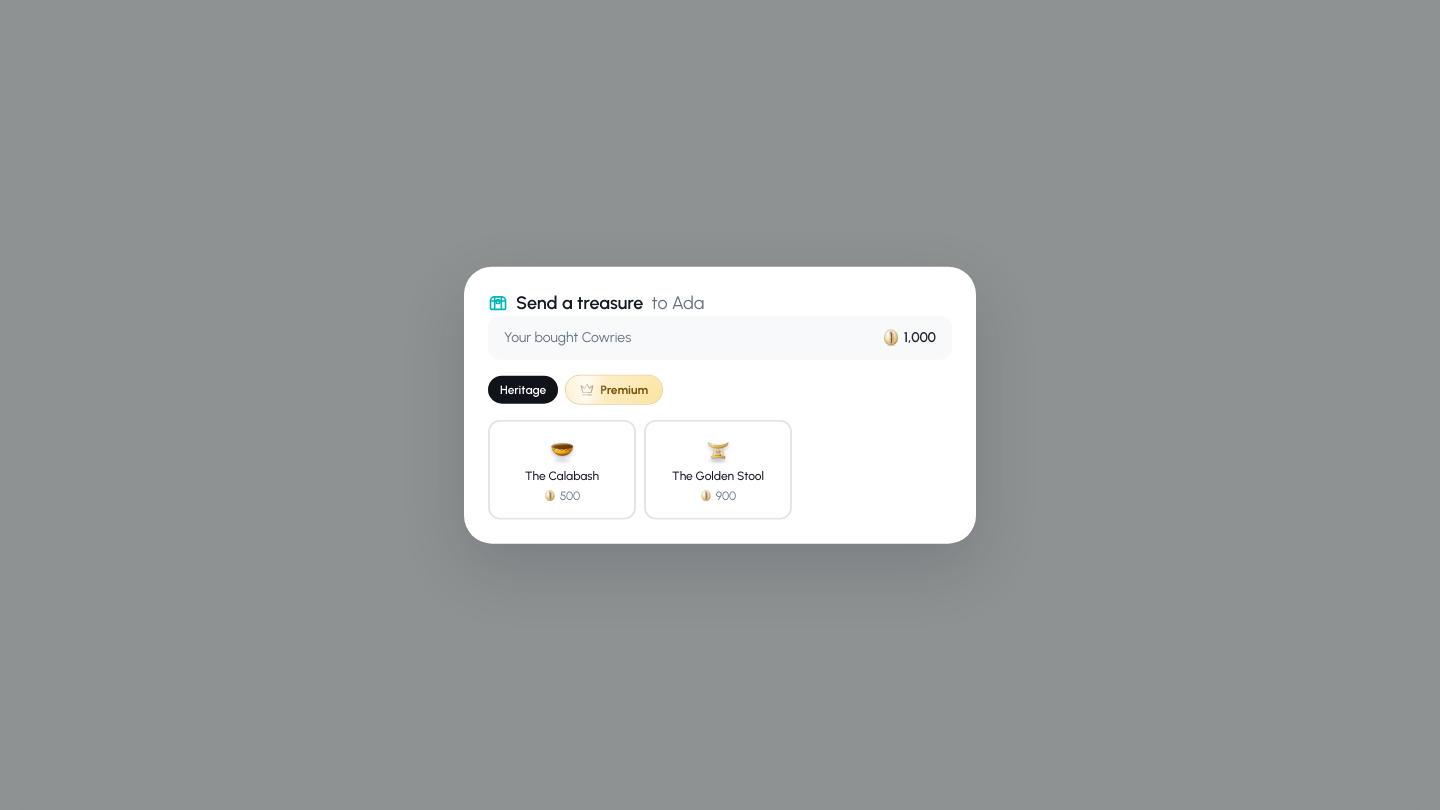
Test: previewing a treasure before sending it › follows the choice to another treasure
The width and height of the screenshot is (1440, 810).
Click the button "The Calabash 500" at (562, 469), box [488,419,636,519]
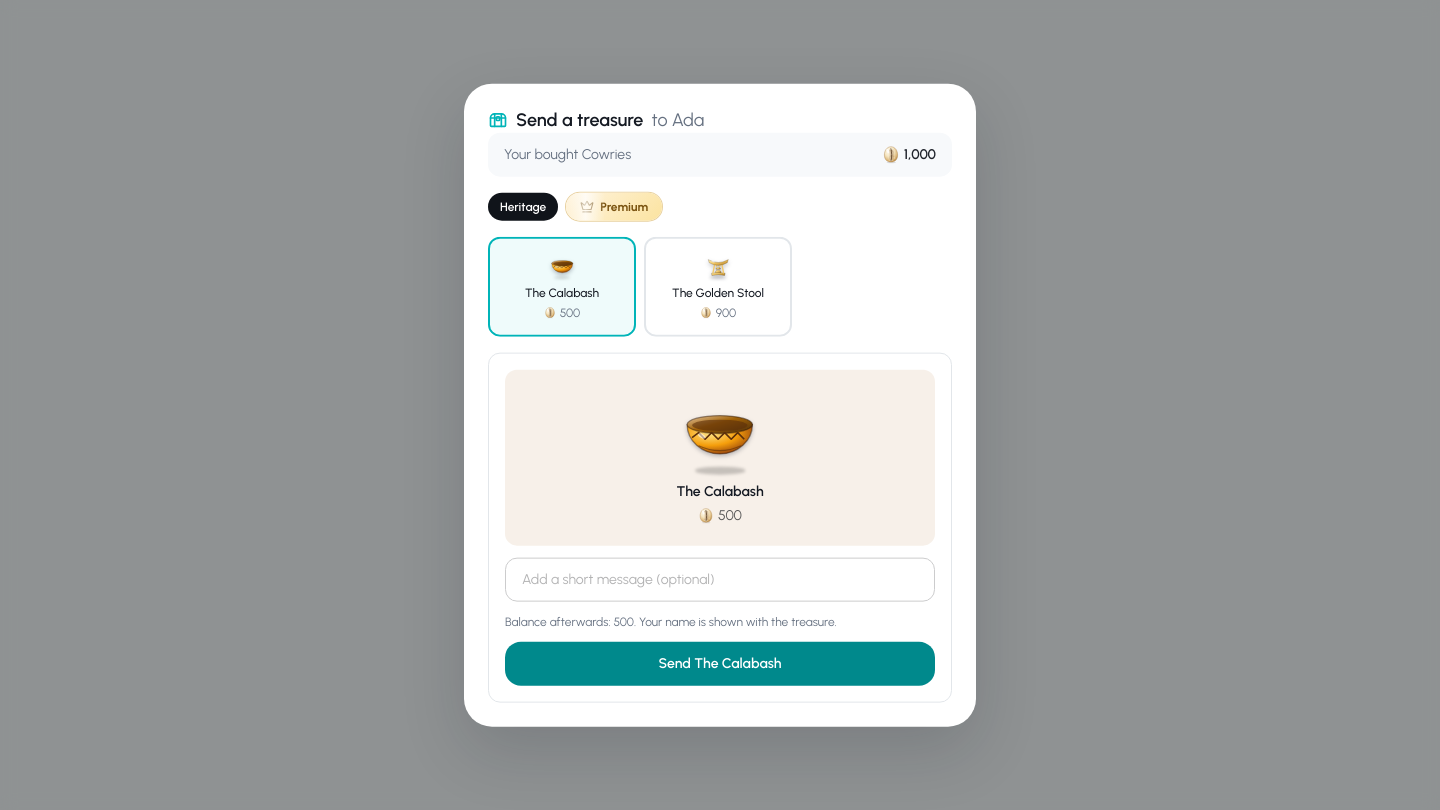
Click the button "The Golden Stool 900" at (718, 286), box [644,236,792,336]
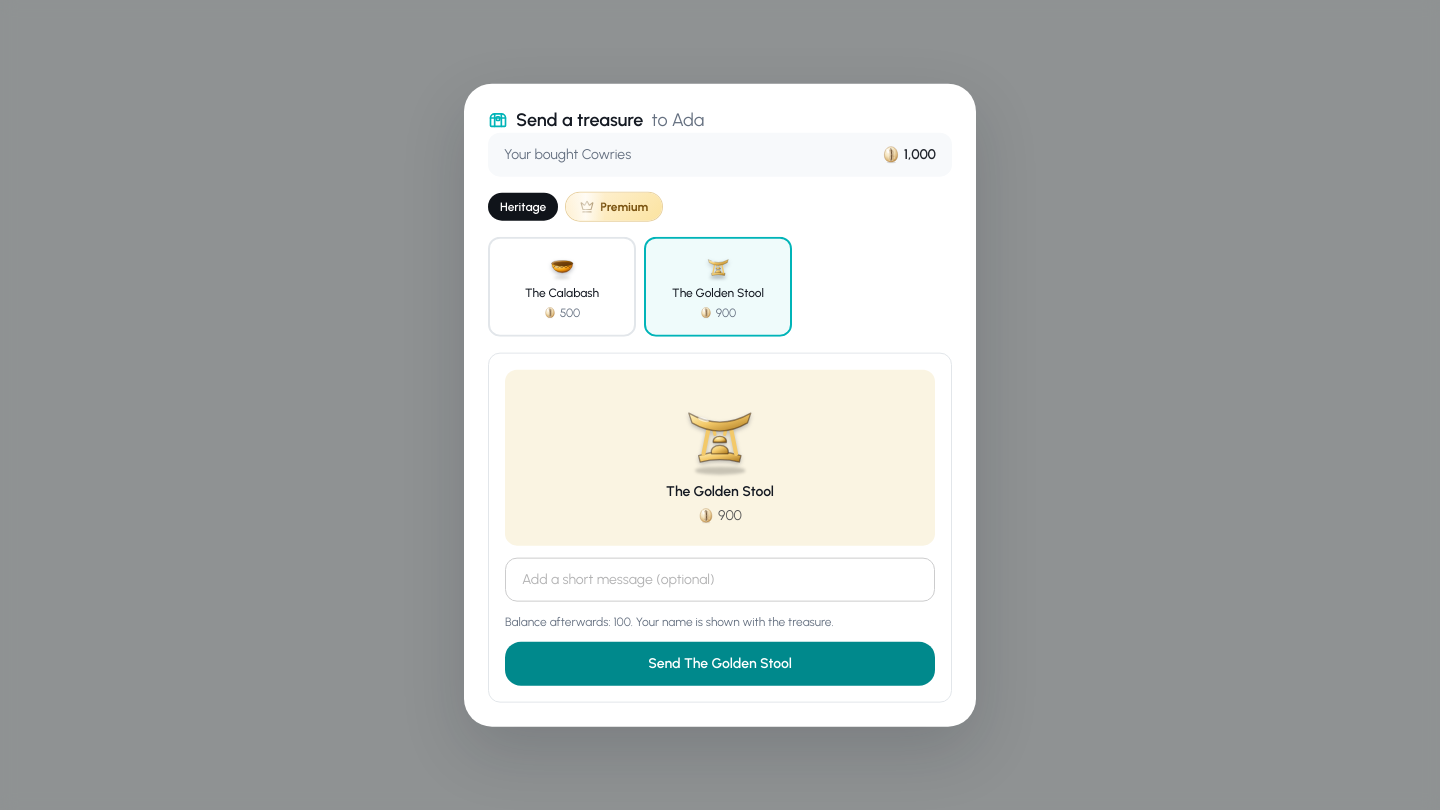
Check: the element named "Preview of The Golden Stool" is shown, box [505,369,935,545]
